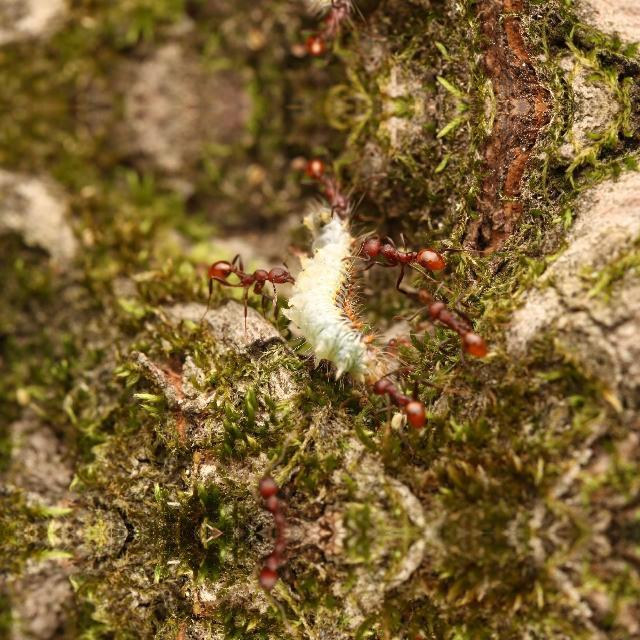Apheanogaster: (414, 288, 511, 367), (286, 146, 379, 226), (342, 223, 462, 280), (286, 0, 378, 66), (192, 247, 304, 299), (356, 366, 444, 432), (238, 532, 316, 596), (238, 470, 316, 532)
